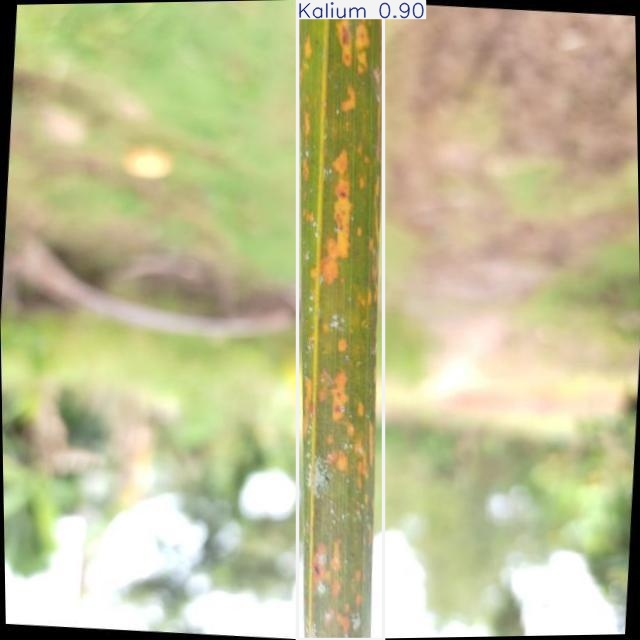Kalium: (297, 0, 384, 640)
